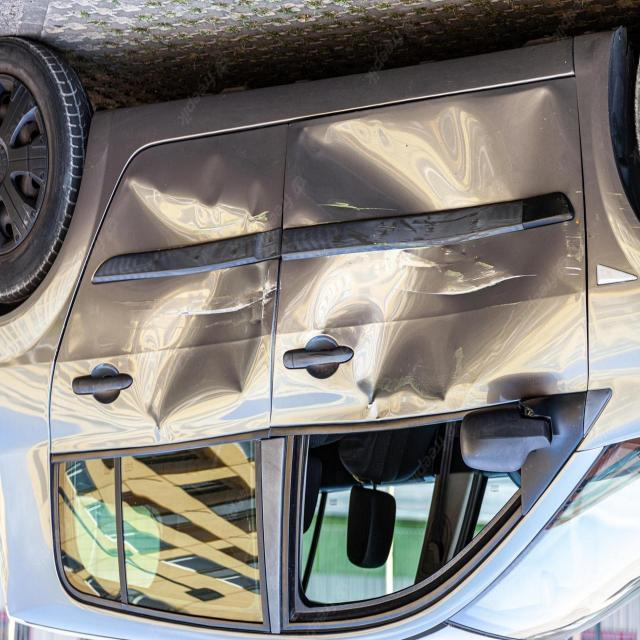dent: (70, 74, 594, 410)
